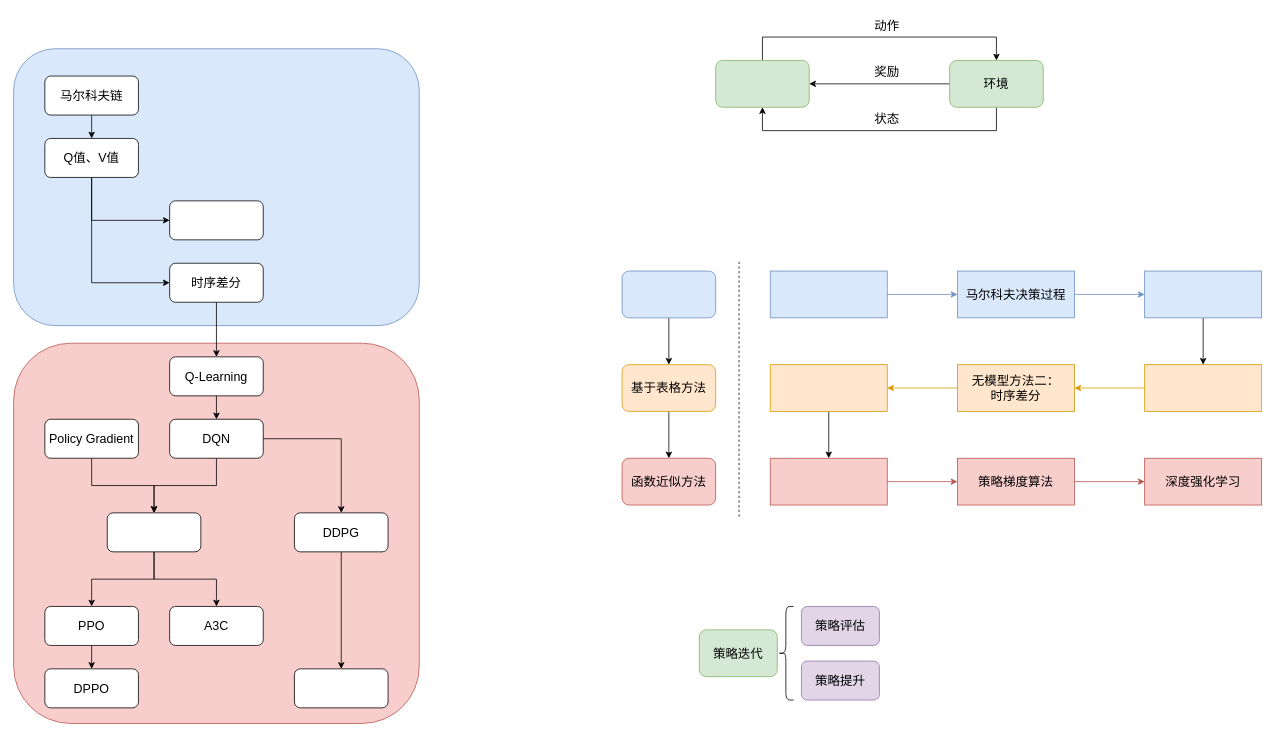
This 1275x737 diagram has some shape labels left out. The centre of each missing label's shape, as x and y in pixels:
AC: the point at 153,532
TD3: the point at 341,688
函数近似和深度网络: the point at 828,481
动态规划: the point at 1203,294
基本概念: the point at 828,294
基础理论: the point at 668,294
无模型方法一： 蒙特卡洛: the point at 1203,387
无模型方法三： 多步自举: the point at 828,387
智能体: the point at 762,83
蒙特卡洛: the point at 216,220
